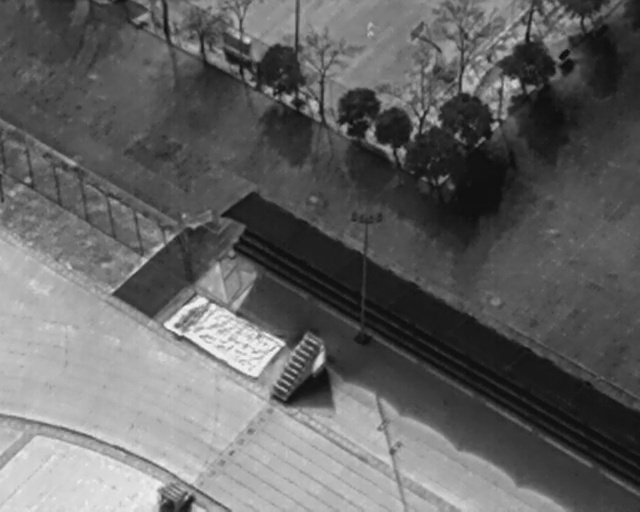Person: (364, 21, 376, 38)
